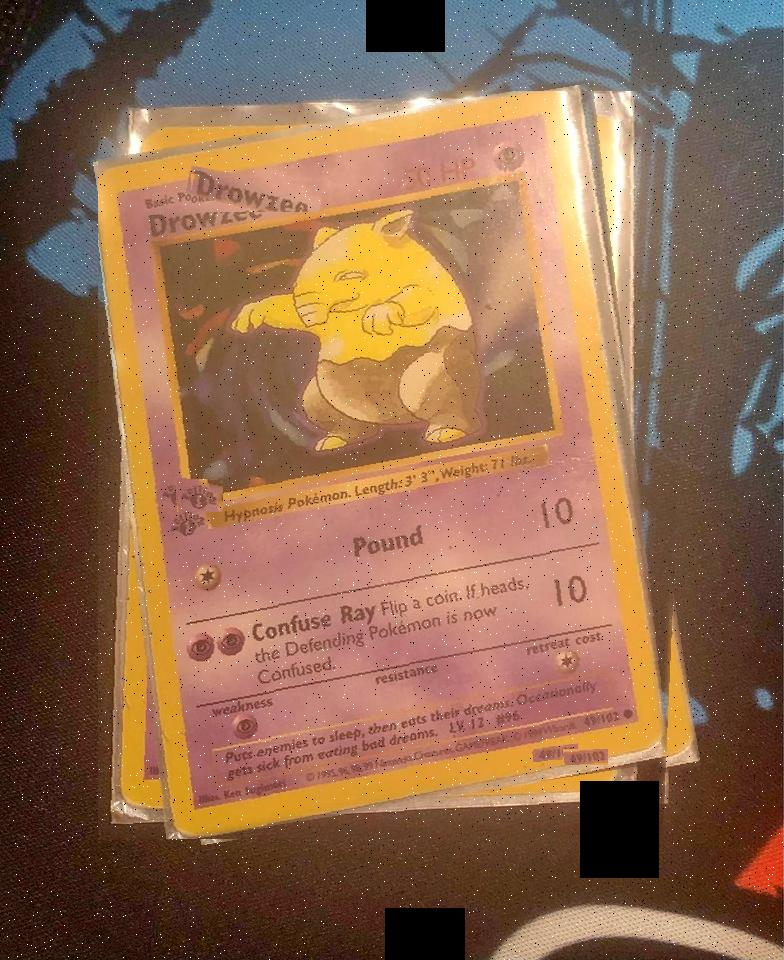card: (98, 91, 668, 840)
name: (191, 174, 321, 212)
set num: (563, 750, 608, 766)
stamp: (176, 478, 224, 512)
